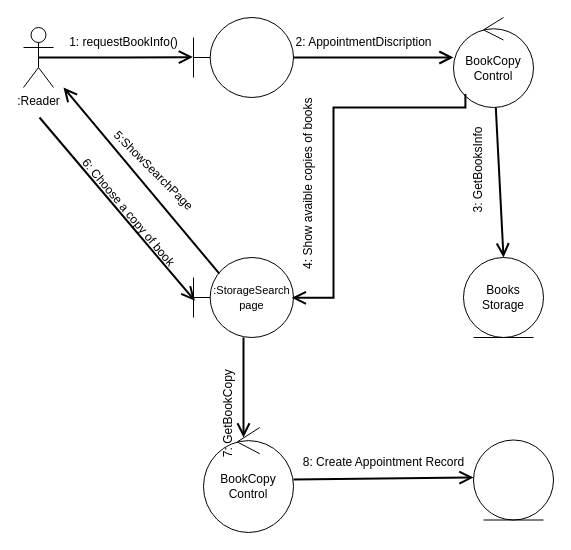
This 571x550 diagram has some shape labels left out. The centre of each missing label's shape, as x and y in pixels:
":LibraryInterface ()" belongs at (243,57).
"Search results" belongs at (513,479).
